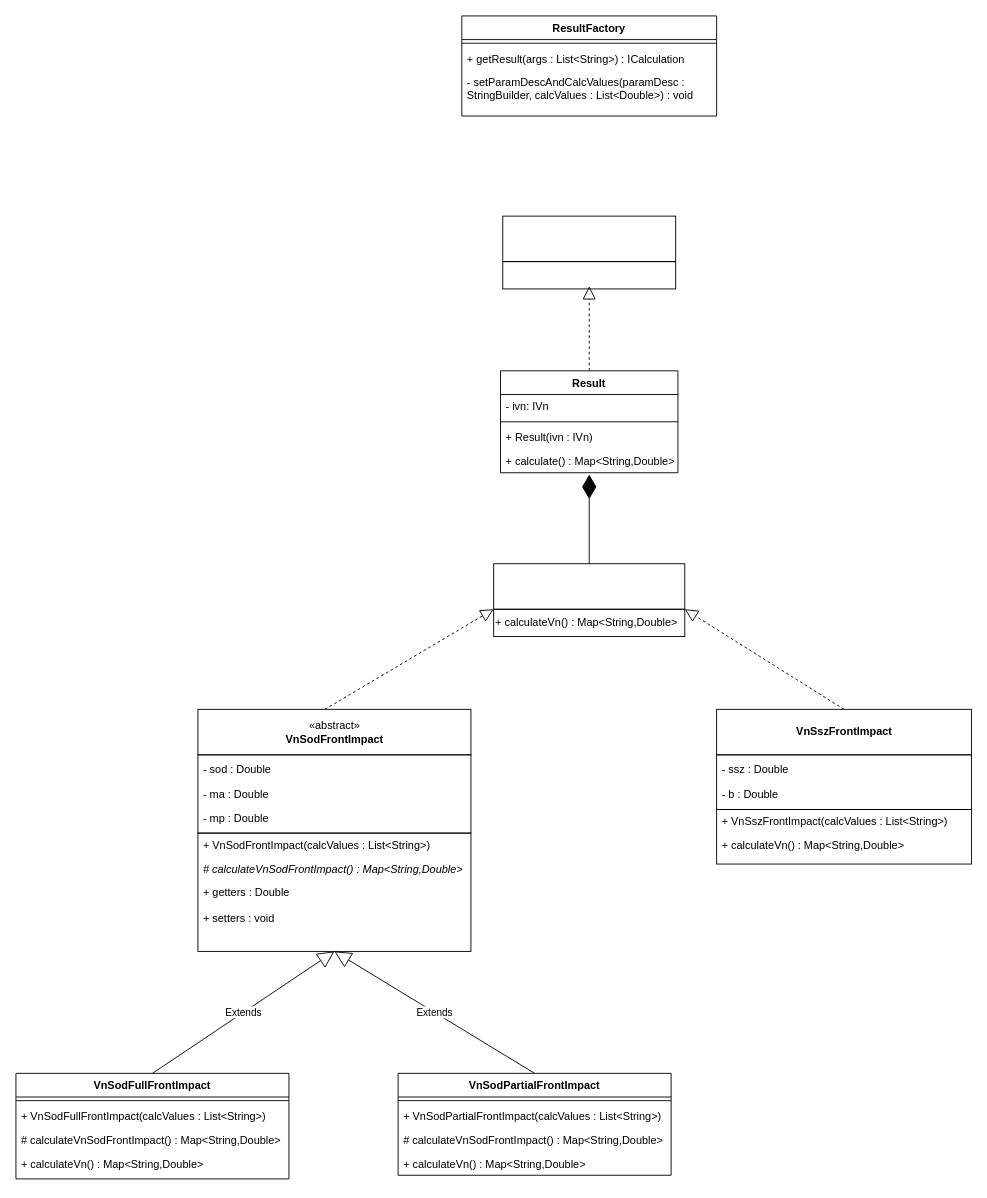
The diagram is 987 pixels wide and 1198 high, and some of its shapes have lost their labels. The shapes that lost their labels are listed below. From the top down, each one's centre as x and y in pixels, then its label:
(589,238): «interface» ICalculation
(589,275): + calculate() : Map<String,Double)
(589,586): «interface» IVn
